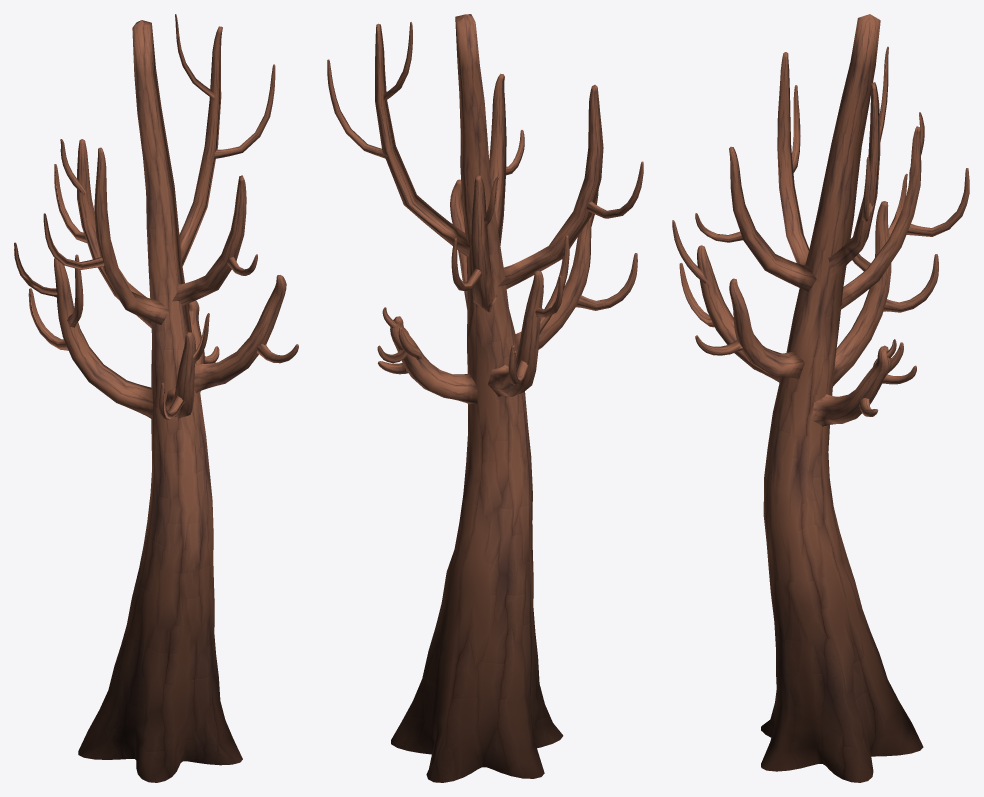
File: commontree_1_bare.gltf
3 views of the same model, side by side, from view 1: azimuth 30°, elevation 25°; view 2: azimuth 150°, elevation 25°; view 3: azimuth 270°, elevation 25° (orthographic). The views are drawn at different scales.
Parts seen in each view (by area): view 1: commontree_1_bare; view 2: commontree_1_bare; view 3: commontree_1_bare.
Part boxes in pixels (box(x1,y1,x2,y2)): commontree_1_bare: box(14, 14, 298, 782); commontree_1_bare: box(327, 14, 643, 782); commontree_1_bare: box(672, 14, 969, 782).
Size of the model in its own units: 2.63 by 6.73 by 2.48.
1 material, 1 textured.
